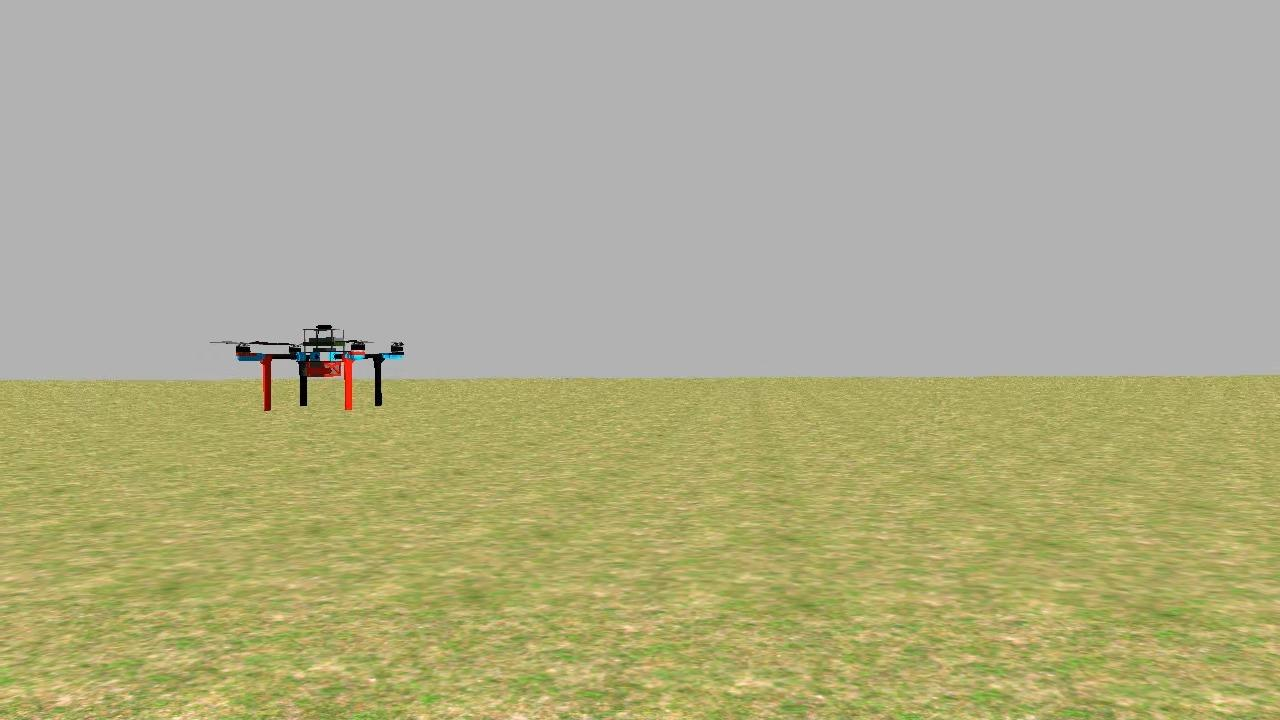UAV: (224, 306, 414, 421)
